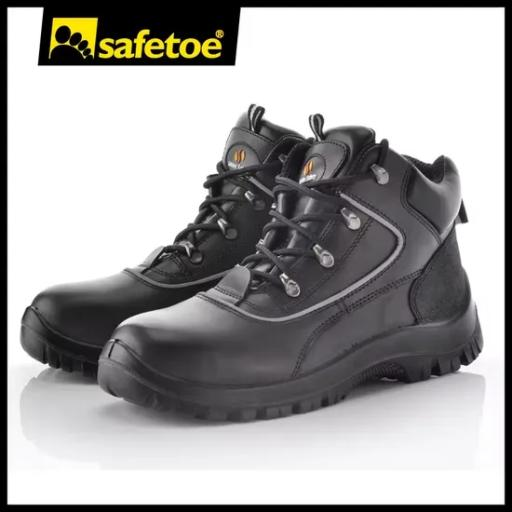safety_boots: (13, 100, 484, 420)
